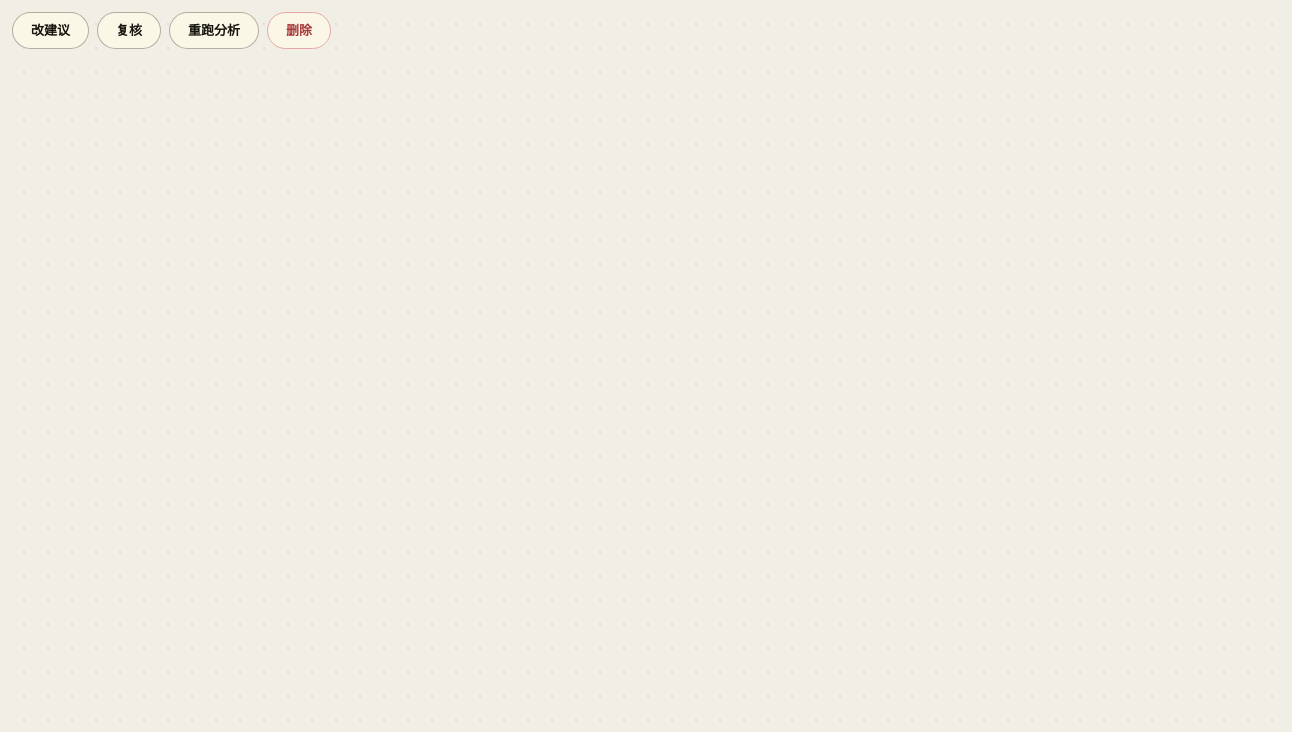
DetailActions › shows the conflict message for review
This screenshot has width=1292, height=732.
What coordinates should you click on to do the following:
click the button "复核"
I would click on:
 (129, 30)
Its box is [97,12,161,49].
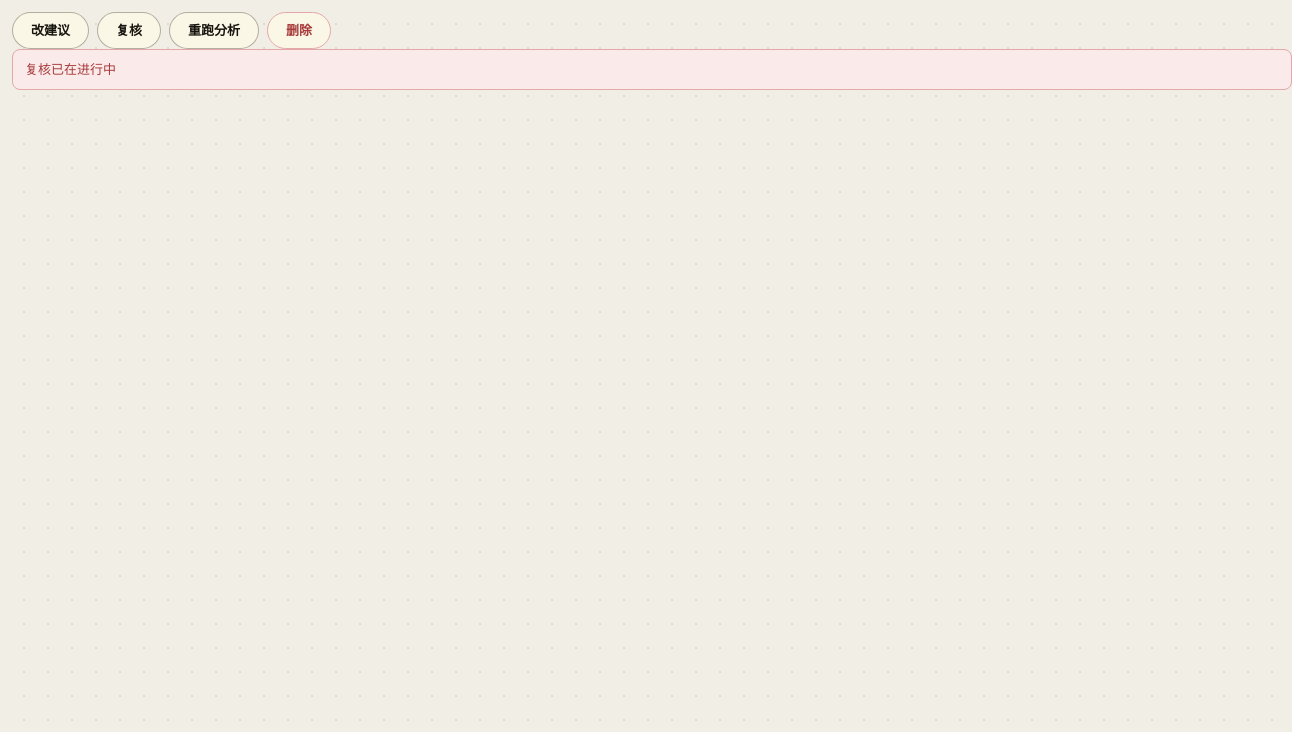
Check: the text "复核已在进行中" is shown, box [12,49,1291,90]
